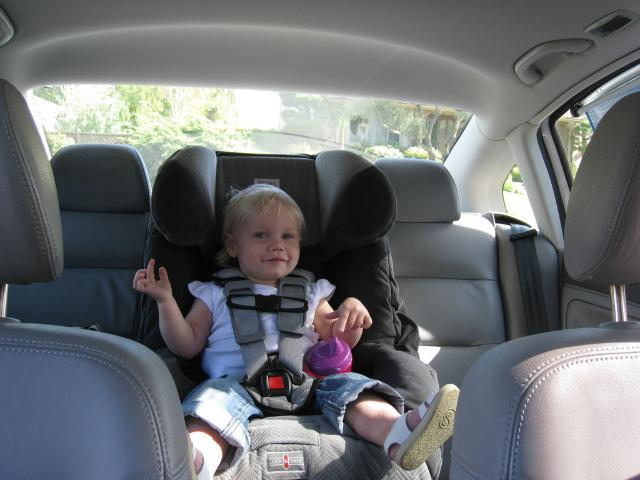SafeDriving: (248, 226, 274, 243), (278, 228, 300, 244)
Seatbelt: (216, 260, 320, 418), (510, 223, 550, 336)
